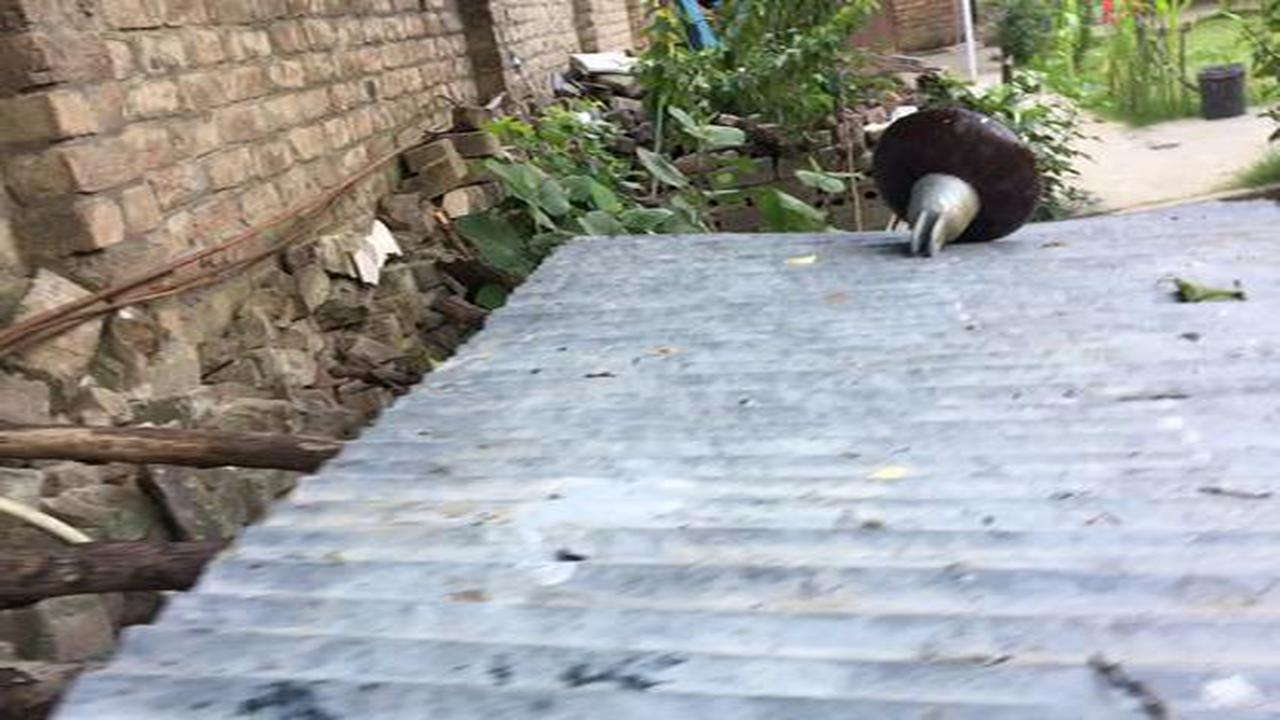insulator_disc: (865, 106, 1045, 267)
